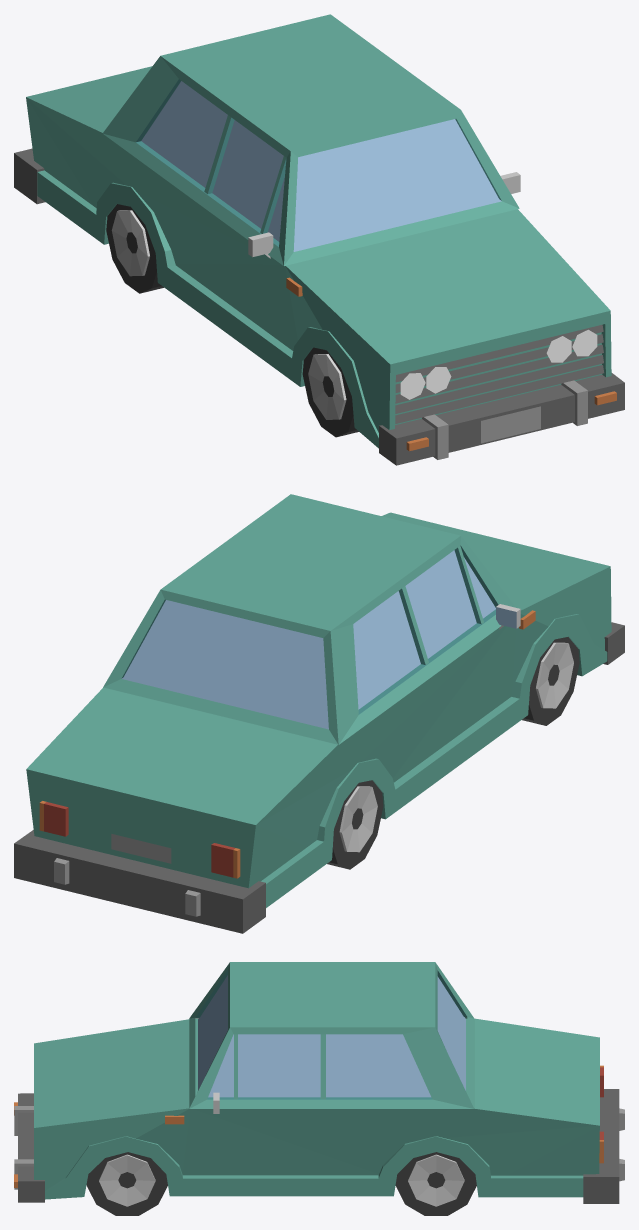
File: transport_cool_005.fbx
3 renders of one model, top to bottom at view 1: azimuth 30°, elevation 25°; view 2: azimuth 150°, elevation 25°; view 3: azimuth 270°, elevation 25°, orthographic. The views are drawn at different scales.
Visible parts, largest first — view 1: transport_cool_005; view 2: transport_cool_005; view 3: transport_cool_005.
Part boxes in pixels (x1,y1,x2,y2): transport_cool_005: (14,14,624,465); transport_cool_005: (14,494,624,933); transport_cool_005: (14,962,624,1215).
Bounding box in the file's own units: 148 × 119 × 370.
